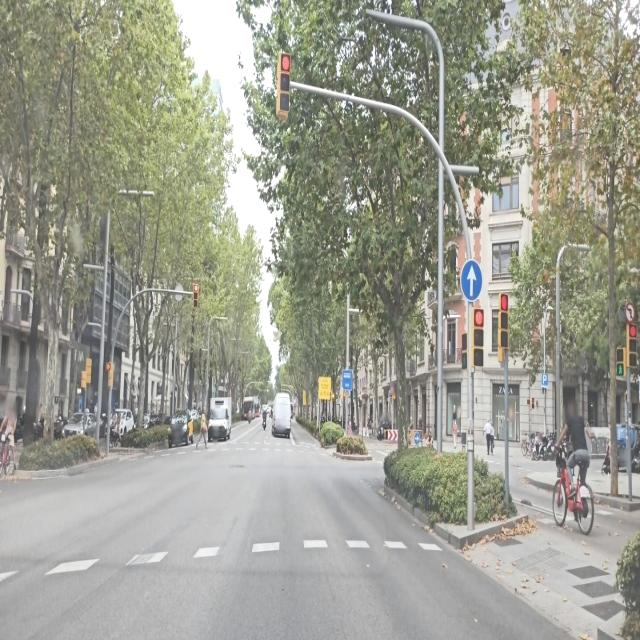bike: (551, 442, 595, 536), (0, 430, 18, 478), (532, 436, 548, 462), (262, 417, 267, 431)
car: (602, 423, 640, 476), (61, 411, 96, 439), (207, 404, 231, 443), (272, 393, 292, 438), (168, 416, 194, 446), (110, 409, 136, 438)
